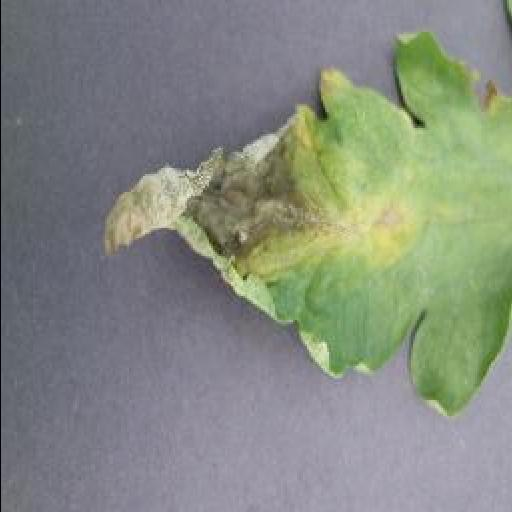disease_tomato: (104, 30, 512, 422)
